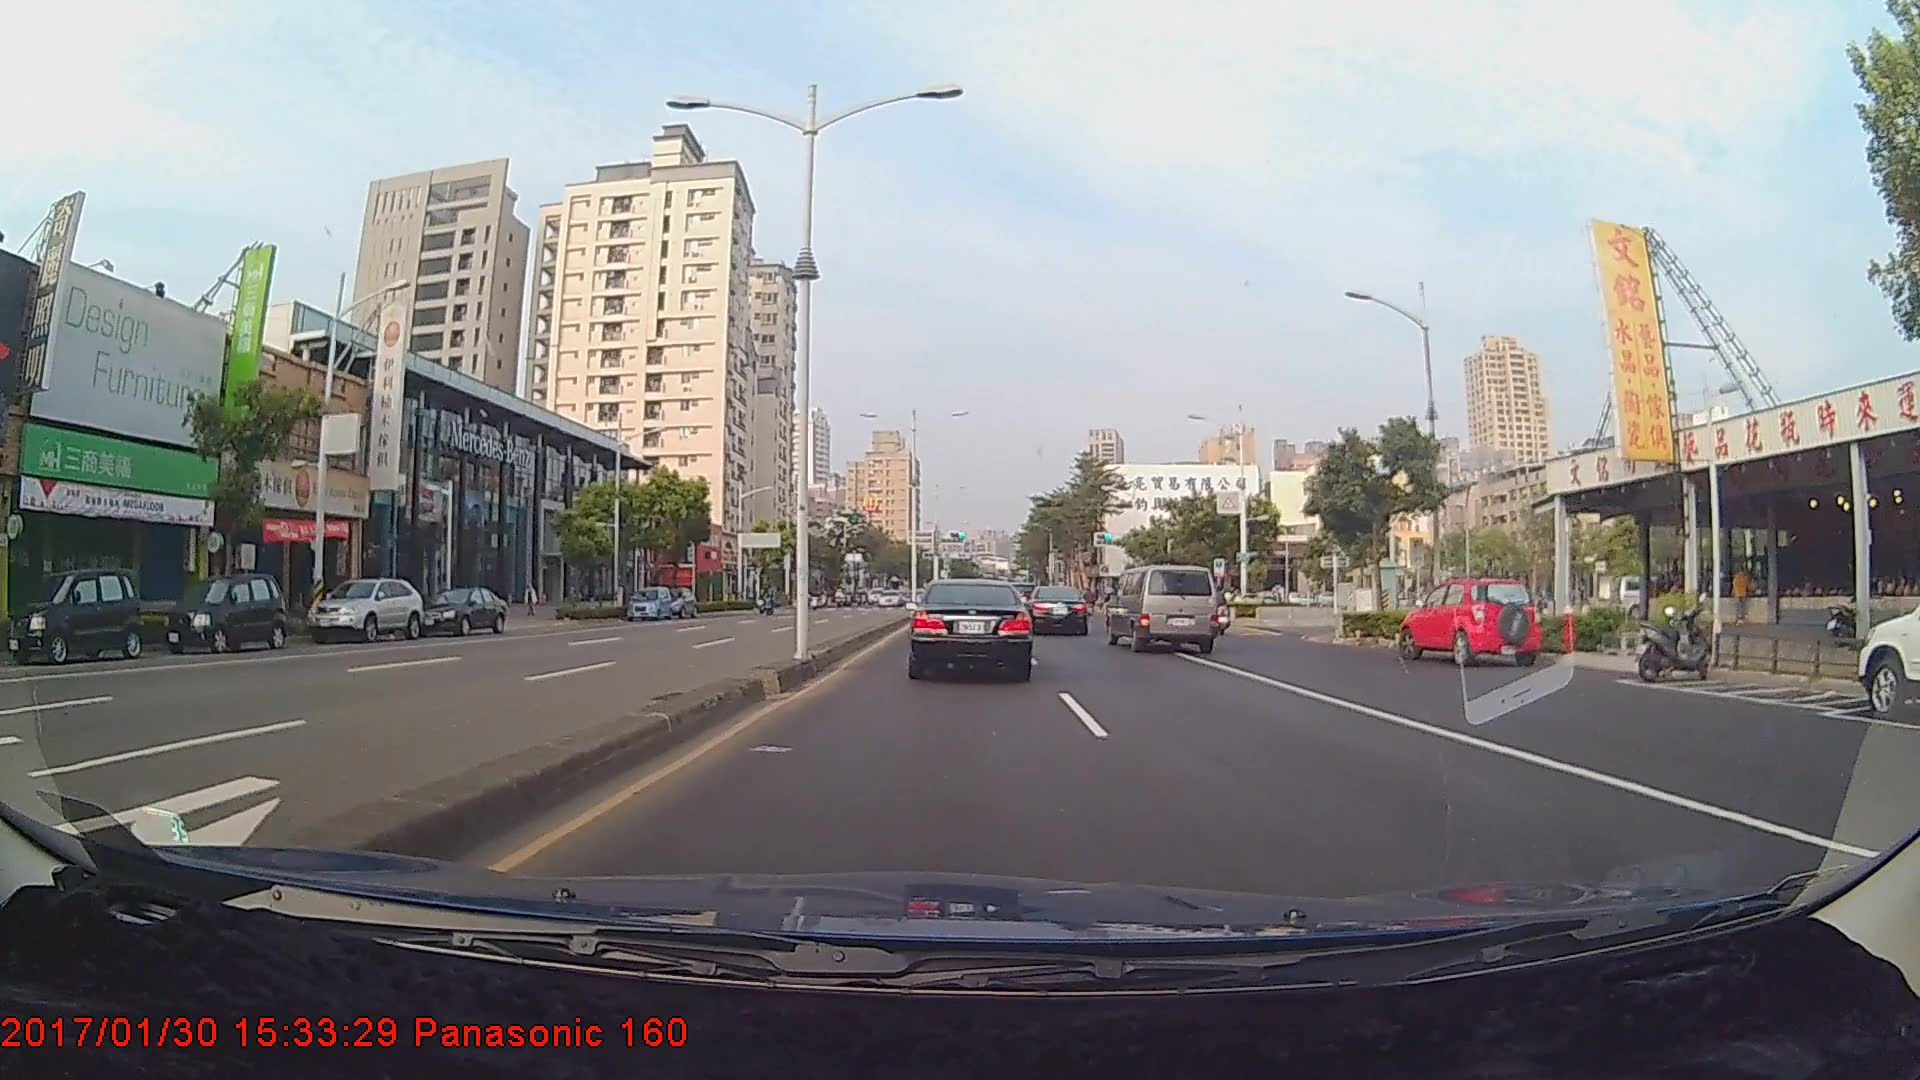pedestrian: (1732, 561, 1757, 631)
vehicle: (5, 567, 144, 665), (906, 575, 1033, 680), (1403, 577, 1537, 668), (1854, 565, 1919, 728), (1105, 562, 1220, 653), (309, 577, 424, 644), (197, 573, 285, 652), (417, 582, 504, 634), (1022, 585, 1090, 637), (625, 582, 671, 620), (655, 584, 698, 617)
